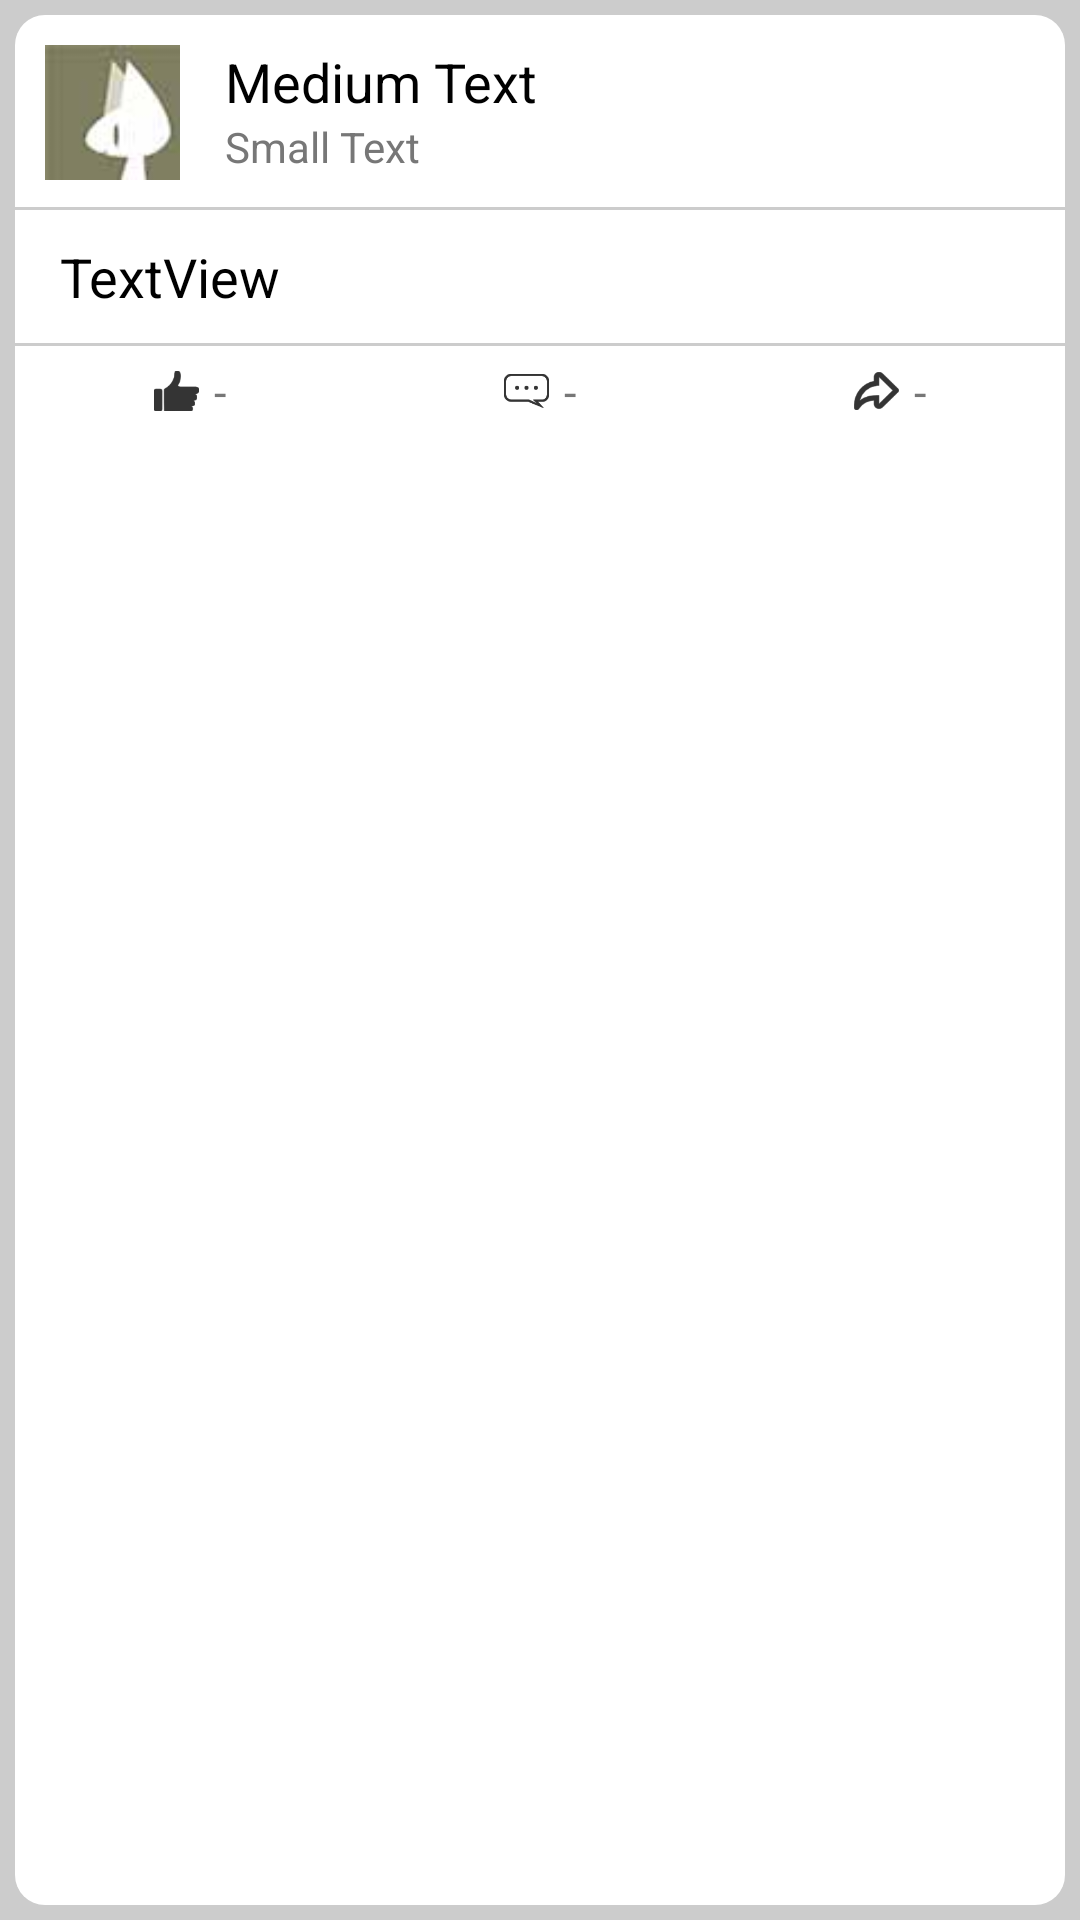

Point at icon controls on the screen. Image size 1080*1920, points as (x=x, y=y).
comment: (x=526, y=391)
forward: (x=876, y=391)
praise: (x=176, y=391)
